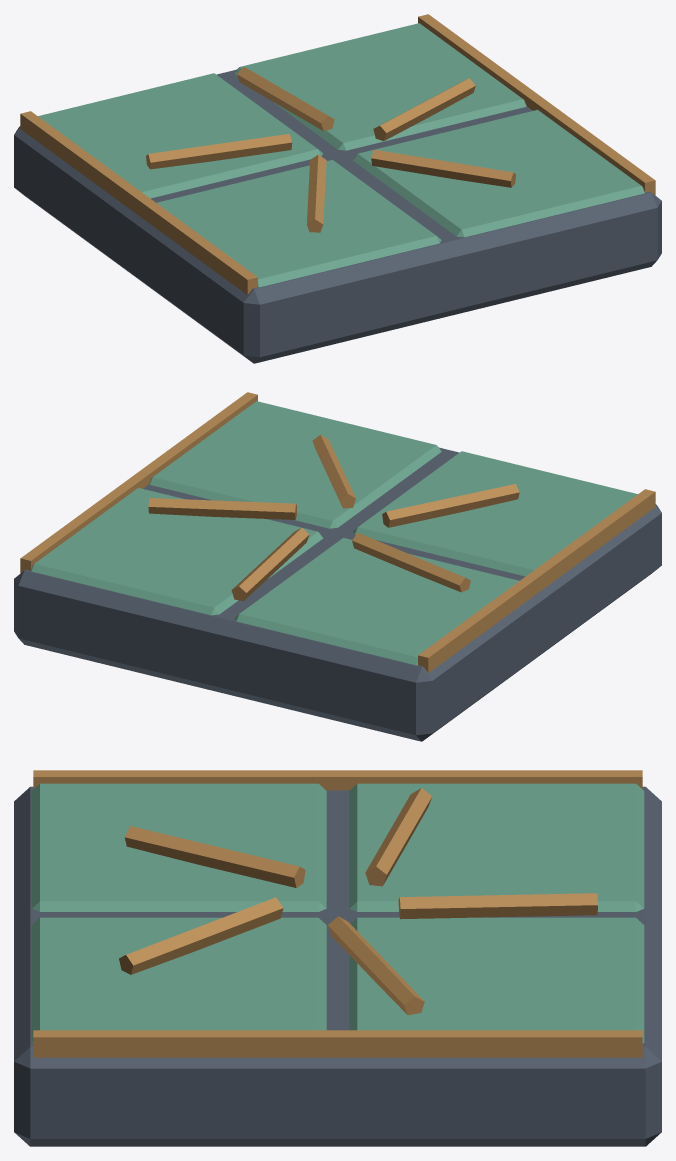
Rendered from floor-nest.fbx.
3 renders of one model, top to bottom at view 1: azimuth 30°, elevation 25°; view 2: azimuth 150°, elevation 25°; view 3: azimuth 270°, elevation 25°, orthographic. The views are drawn at different scales.
Visible parts, largest first — view 1: foundation.002, inset flagstone.010, inset flagstone.008, inset flagstone.011, inset flagstone.009, border rail.004, border rail.005, nest root.002, nest root.004, nest root, nest root.001, nest root.003; view 2: foundation.002, inset flagstone.010, inset flagstone.011, inset flagstone.009, inset flagstone.008, border rail.004, border rail.005, nest root, nest root.003, nest root.002, nest root.001, nest root.004; view 3: foundation.002, inset flagstone.008, inset flagstone.009, inset flagstone.011, inset flagstone.010, border rail.005, border rail.004, nest root.001, nest root.003, nest root.004, nest root, nest root.002.
Part boxes in pixels (bbox=[...]): foundation.002: bbox=[14, 69, 661, 363]; inset flagstone.010: bbox=[352, 109, 644, 237]; inset flagstone.008: bbox=[156, 160, 441, 287]; inset flagstone.011: bbox=[234, 23, 526, 150]; inset flagstone.009: bbox=[38, 73, 322, 198]; border rail.004: bbox=[20, 111, 257, 294]; border rail.005: bbox=[418, 14, 655, 195]; nest root.002: bbox=[146, 134, 292, 169]; nest root.004: bbox=[371, 149, 516, 187]; nest root: bbox=[373, 78, 475, 140]; nest root.001: bbox=[237, 67, 334, 131]; nest root.003: bbox=[306, 154, 326, 232]; foundation.002: bbox=[14, 447, 661, 741]; inset flagstone.010: bbox=[149, 401, 441, 528]; inset flagstone.011: bbox=[31, 487, 323, 615]; inset flagstone.009: bbox=[234, 538, 519, 665]; inset flagstone.008: bbox=[353, 451, 637, 576]; border rail.004: bbox=[418, 489, 655, 672]; border rail.005: bbox=[20, 392, 257, 573]; nest root: bbox=[148, 498, 296, 519]; nest root.003: bbox=[382, 484, 519, 527]; nest root.002: bbox=[352, 533, 470, 592]; nest root.001: bbox=[231, 528, 309, 601]; nest root.004: bbox=[312, 435, 355, 508]; foundation.002: bbox=[14, 786, 661, 1146]; inset flagstone.008: bbox=[31, 783, 326, 911]; inset flagstone.009: bbox=[349, 783, 644, 911]; inset flagstone.011: bbox=[349, 917, 644, 1042]; inset flagstone.010: bbox=[31, 917, 326, 1042]; border rail.005: bbox=[33, 1030, 642, 1057]; border rail.004: bbox=[33, 770, 642, 790]; nest root.001: bbox=[398, 893, 597, 919]; nest root.003: bbox=[124, 826, 305, 887]; nest root.004: bbox=[119, 897, 283, 974]; nest root: bbox=[328, 916, 424, 1015]; nest root.002: bbox=[365, 788, 432, 886].
Size of the model in its own units: 100 by 21.8 by 100.
